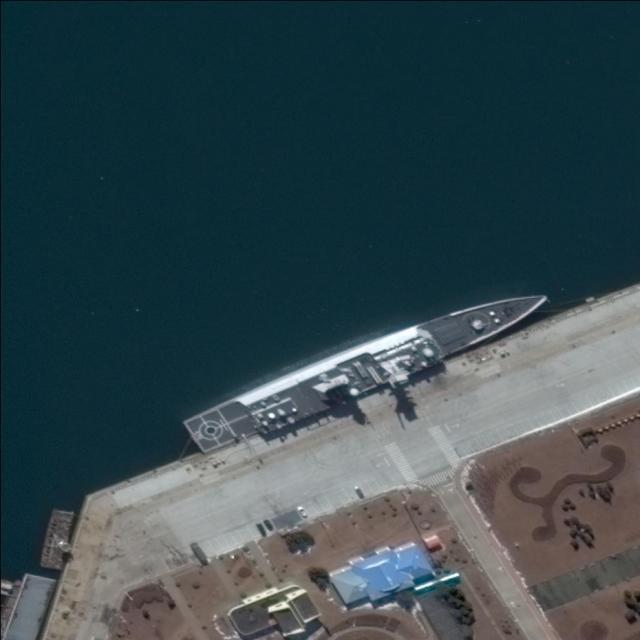Auxiliary Ships: (178, 270, 554, 464)
